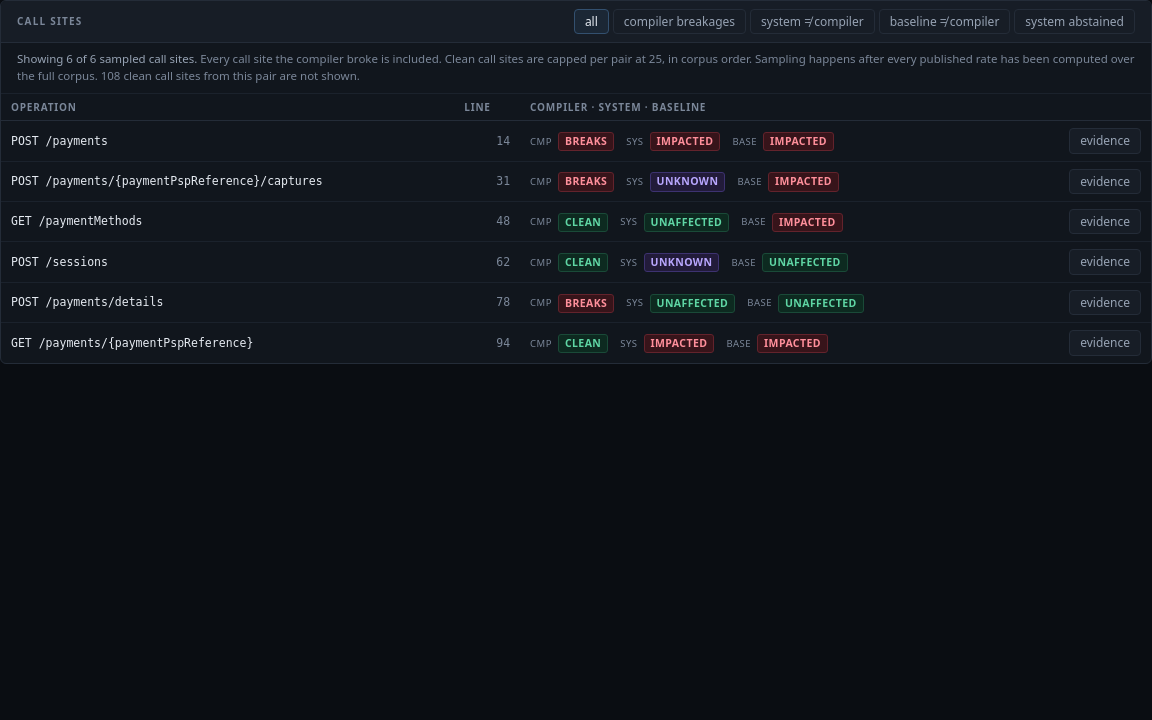
Test: CallsiteTable filters › expands a row to its source, its diagnostics and the change each finding is anchored to
Expected: the 1st row with test id "callsite-row" is shown, [1, 121, 1151, 161]
Click the button "evidence" in the row of "14" at coordinates (1105, 141), box [1069, 128, 1141, 154]
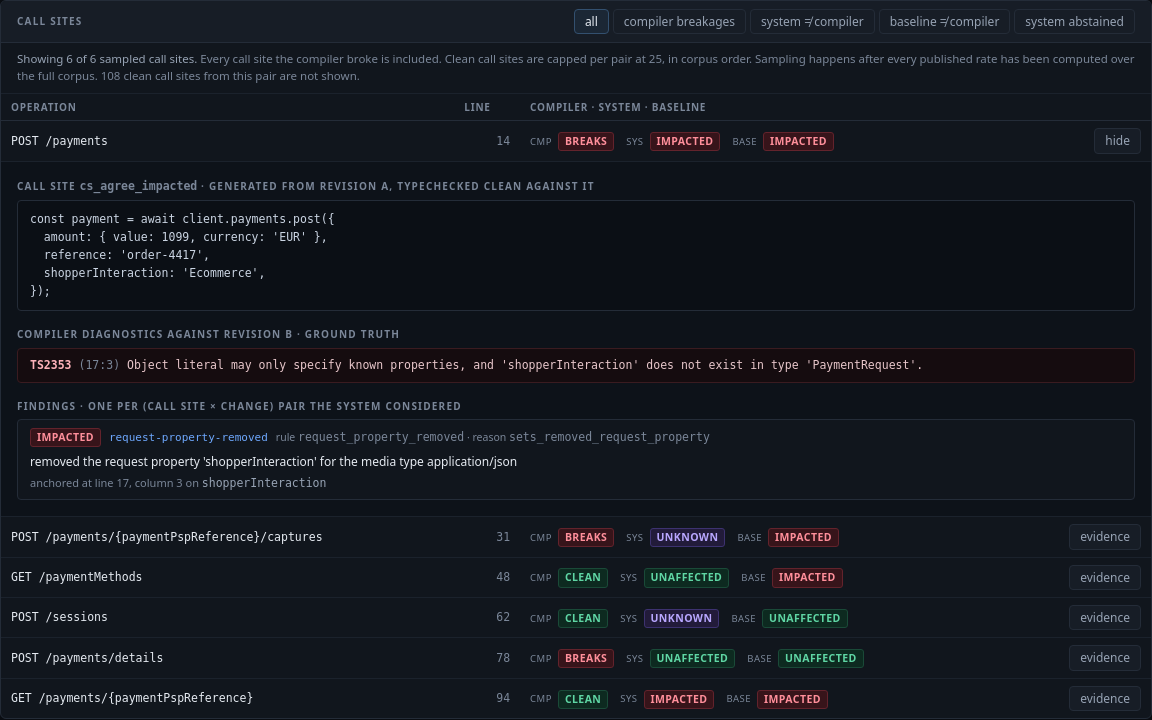
Expected: the row with test id "callsite-detail" shows "shopperInteraction", [202, 476, 326, 490]
Expected: the row with test id "callsite-detail" shows "TS2353", [30, 358, 72, 372]
Expected: the row with test id "callsite-detail" shows "request-property-removed", [109, 431, 268, 444]
